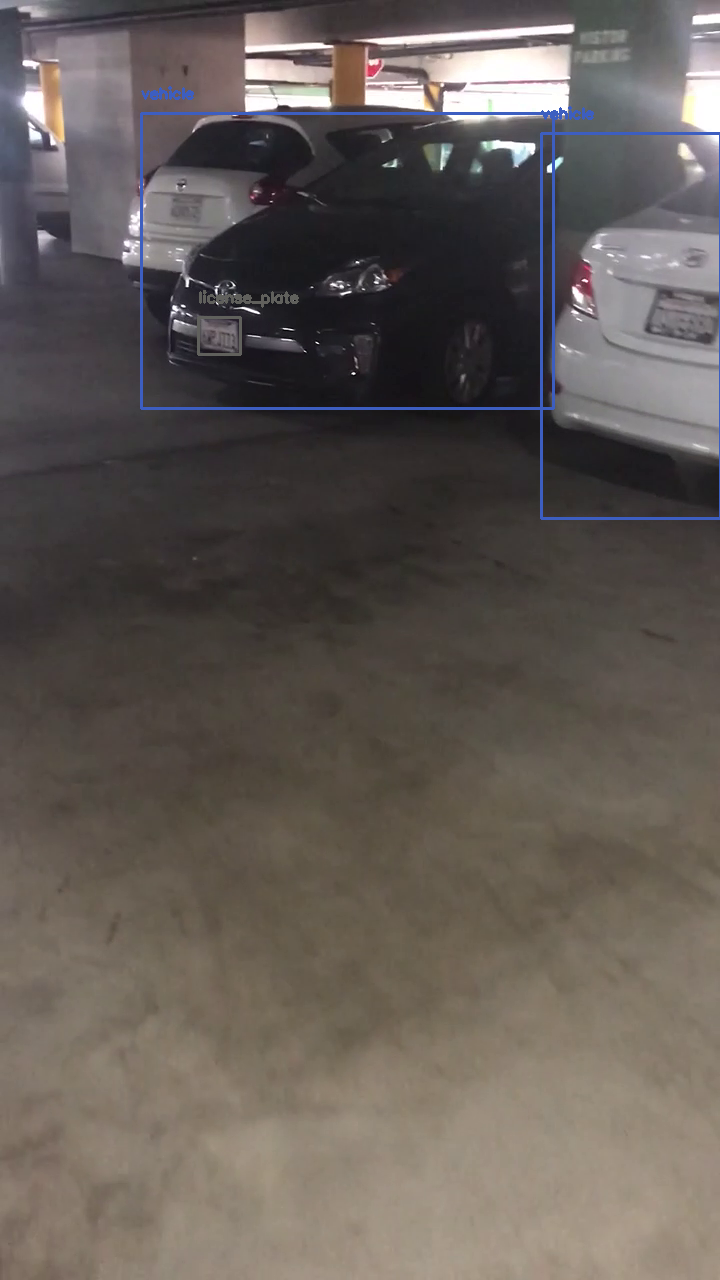license_plate: (198, 317, 240, 354)
vehicle: (141, 113, 553, 408), (541, 133, 720, 518)
